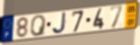4: (92, 8, 105, 30)
7: (110, 4, 125, 30), (71, 10, 85, 34)
8: (15, 16, 30, 39)
J: (52, 11, 68, 35)
Q: (30, 14, 48, 37)
